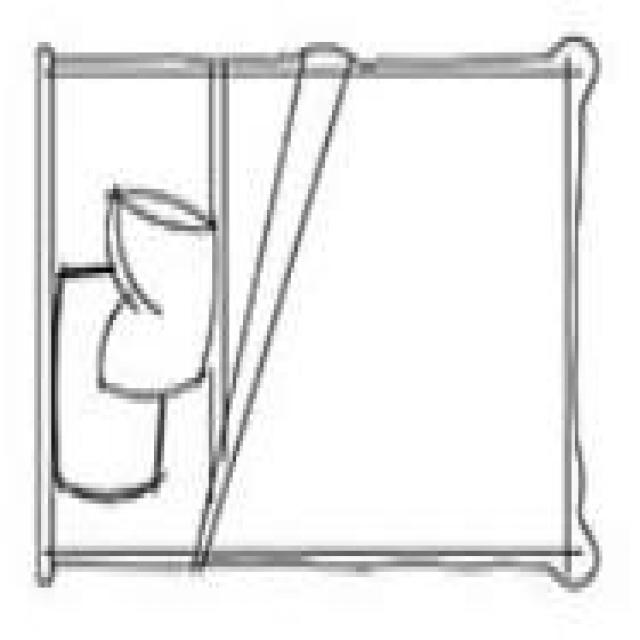bed: (31, 42, 592, 577)
